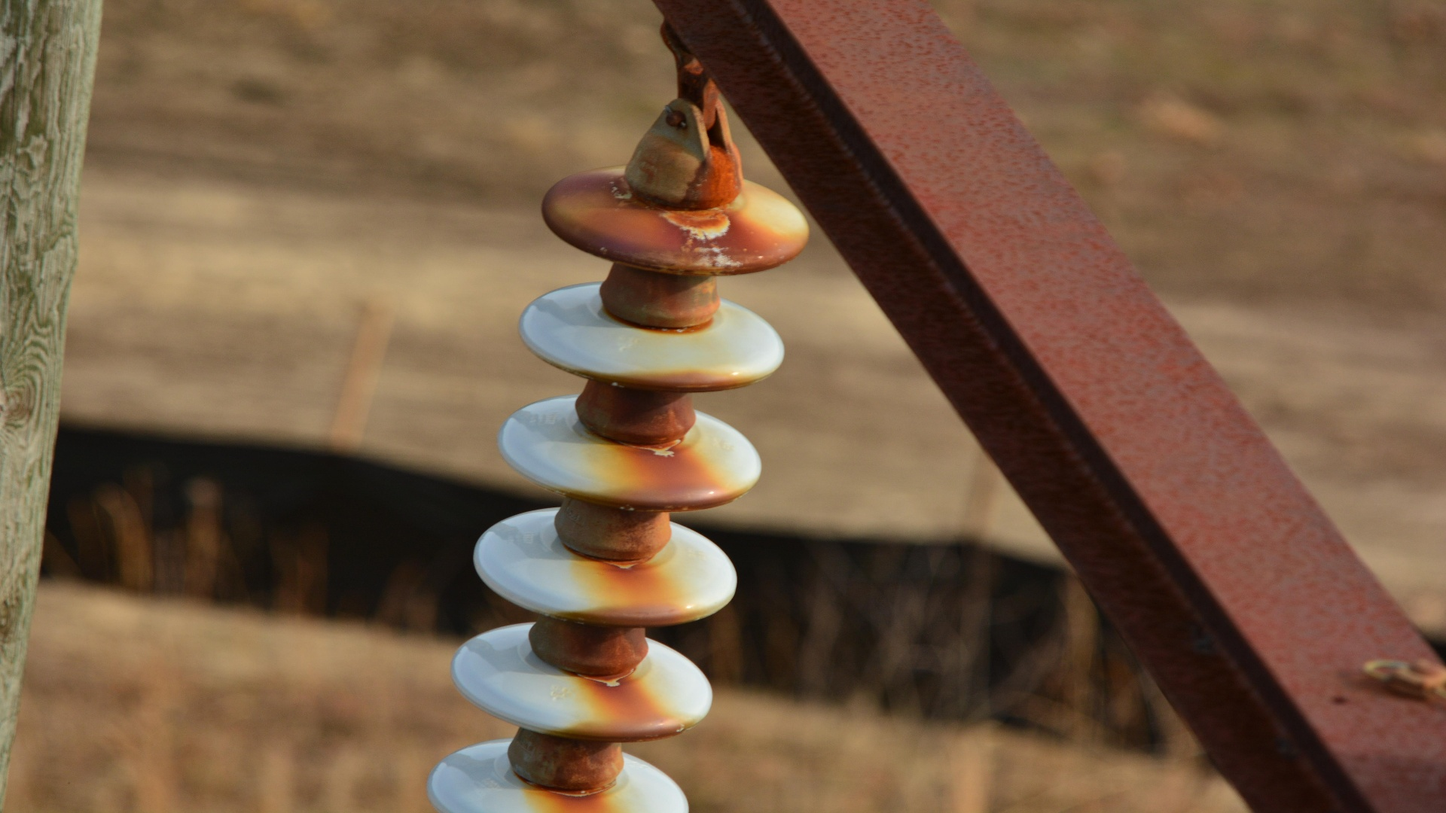insulator: (422, 163, 815, 813)
